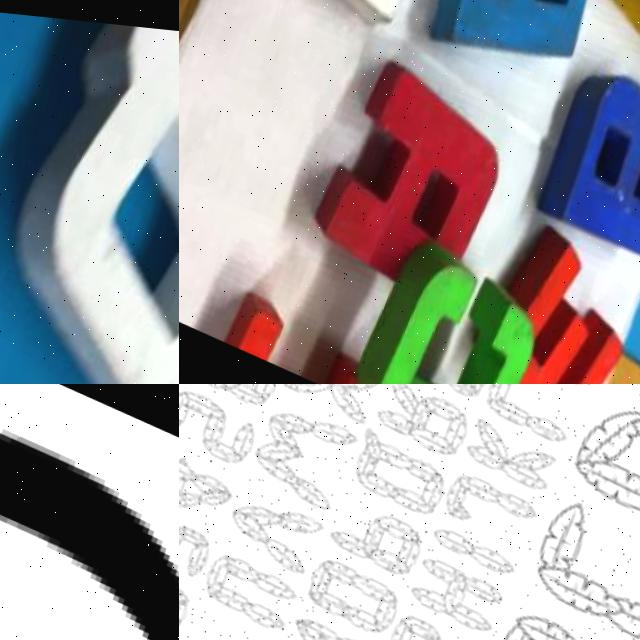3: (179, 495, 218, 584)
4: (179, 431, 242, 530)
5: (179, 384, 263, 467)
6: (182, 384, 288, 410)
A: (296, 51, 519, 319)
B: (529, 43, 640, 266)
C: (336, 225, 556, 384)
D: (0, 384, 179, 640)
E: (469, 192, 640, 384)
P: (426, 0, 628, 92)
Q: (0, 7, 179, 384)
